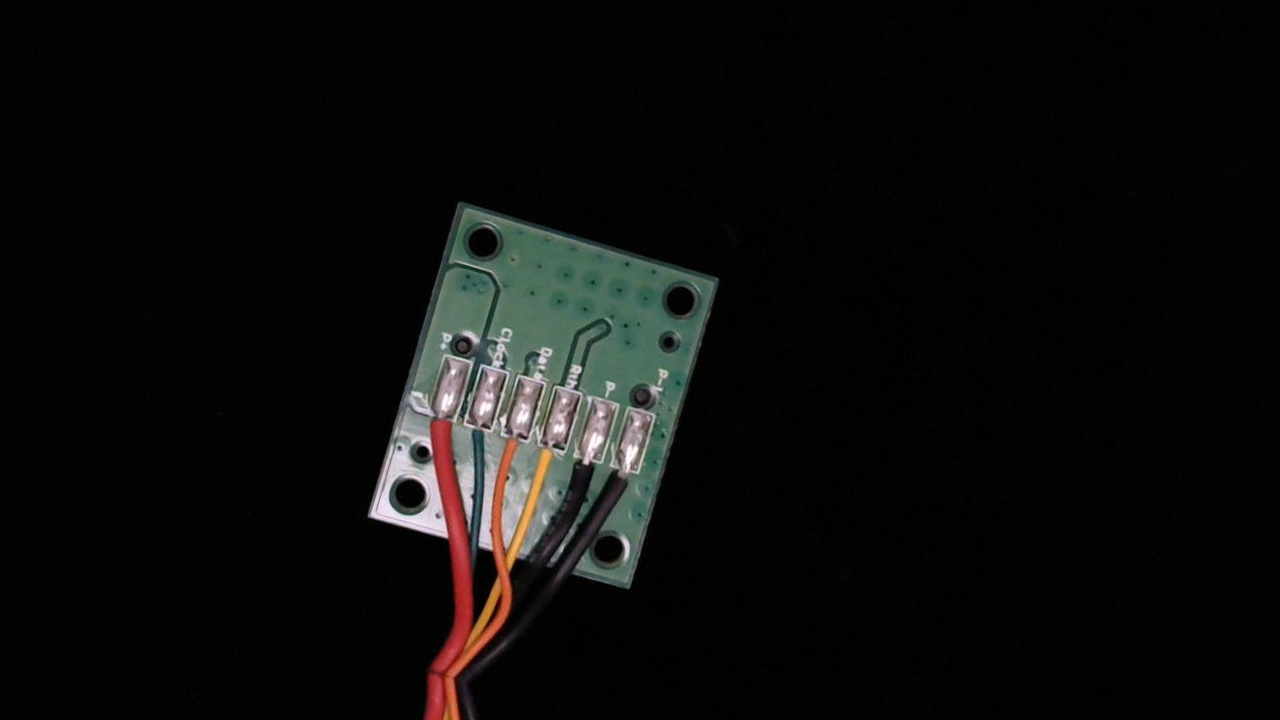Black: (555, 439, 609, 518)
Black1: (597, 449, 649, 523)
Green: (452, 404, 499, 469)
Orange: (486, 414, 537, 488)
Red: (412, 395, 465, 472)
Yellow: (518, 428, 572, 509)
